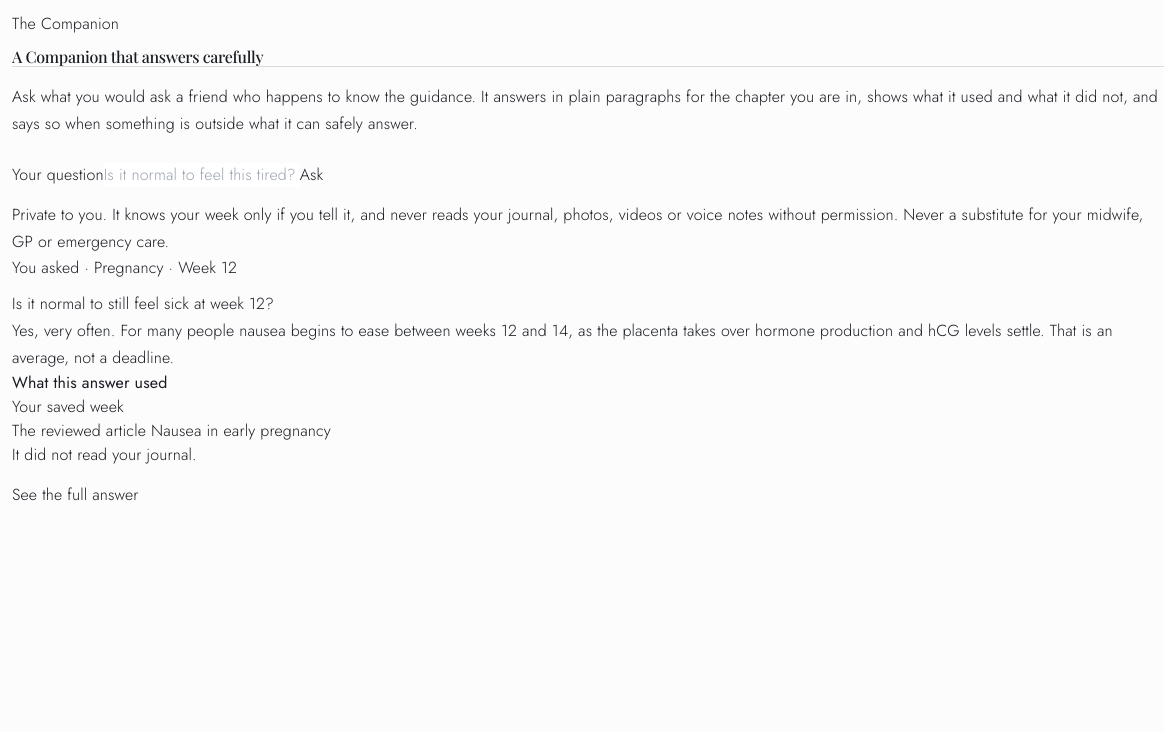
Test: homepage Companion ask › opens the Companion page when the panel is unavailable
Click the button "Ask".
click(312, 175)  # box [300, 163, 323, 187]
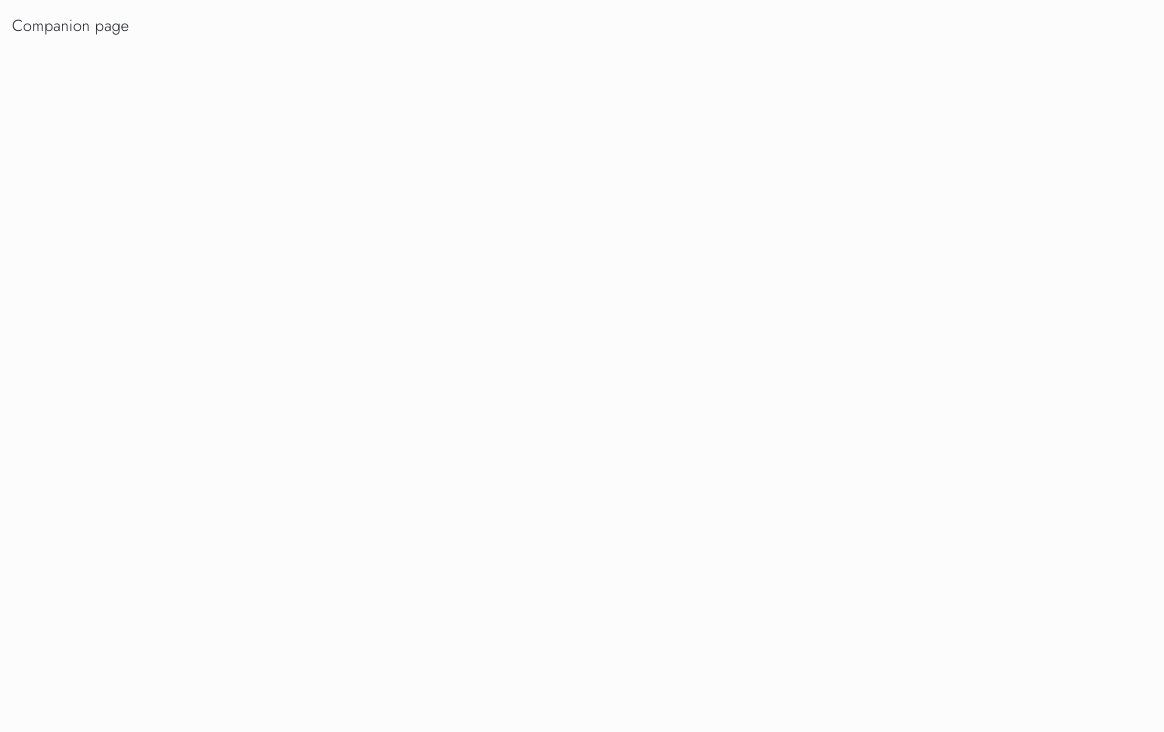
Now the text "Companion page" is shown, box [12, 14, 129, 37]
